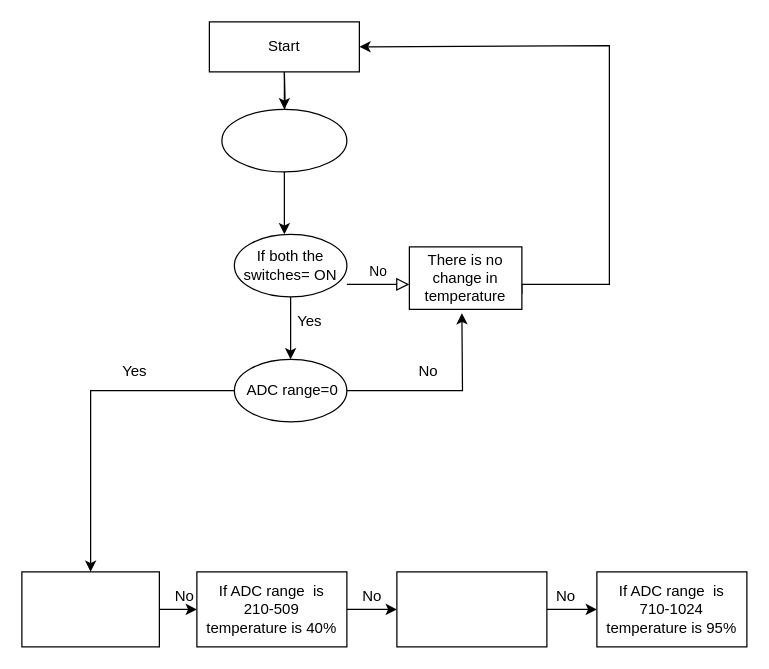
This 769x669 diagram has some shape labels left out. The centre of each missing label's shape, as x and y in pixels:
"Button sensor/Switches" belongs at point 284,140.
"If ADC range is 0-209 temperature is 20%" belongs at point 90,609.
"If ADC range is 510-709 temperature is 70%" belongs at point 471,609.
